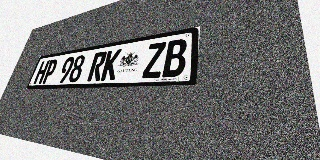8: (67, 54, 87, 82)
9: (57, 56, 76, 83)
B: (162, 38, 188, 77)
H: (33, 60, 50, 84)
K: (100, 49, 122, 81)
P: (41, 59, 59, 84)
R: (87, 51, 108, 81)
Z: (142, 41, 166, 78)
